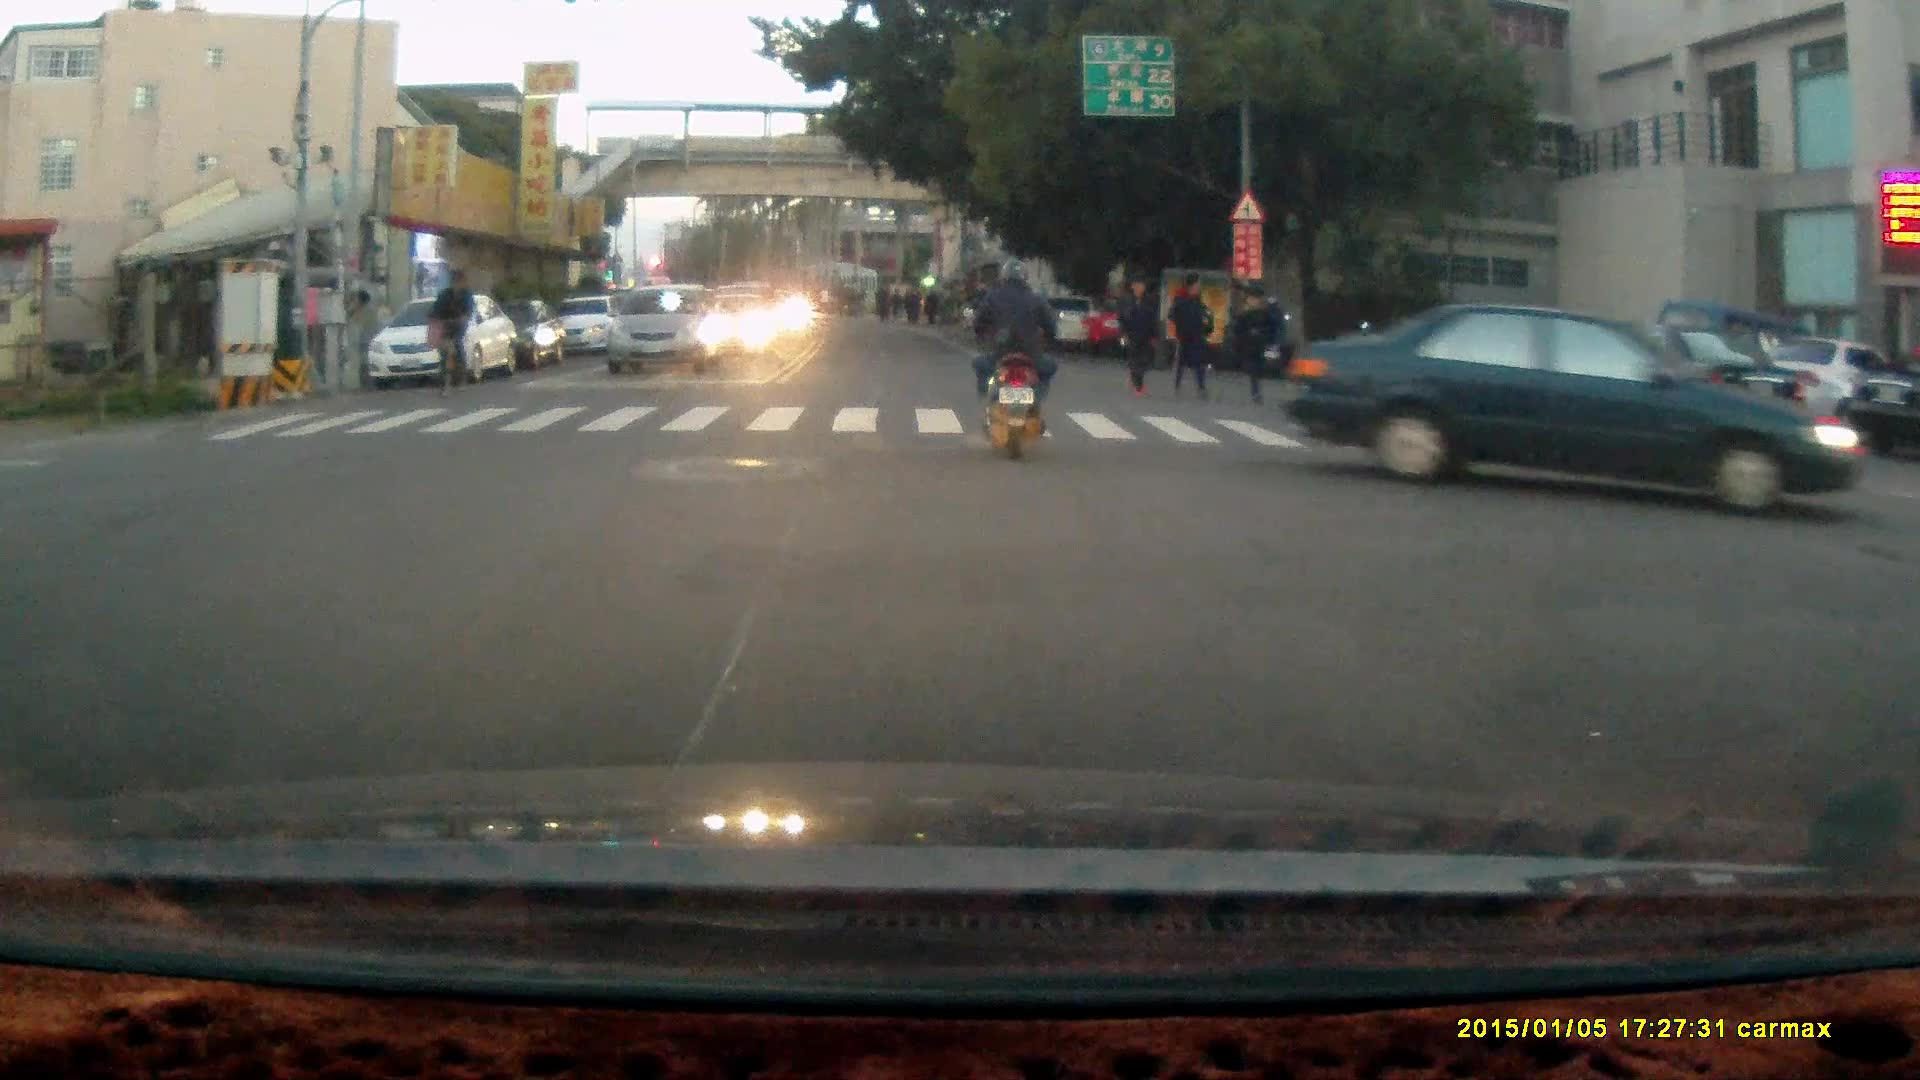pedestrian: (1115, 275, 1160, 400), (1171, 269, 1212, 403), (1233, 285, 1273, 403)
rider: (963, 255, 1058, 462), (425, 267, 472, 396), (1239, 292, 1297, 383)
vehicle: (1279, 297, 1875, 517), (1738, 337, 1910, 441), (364, 293, 526, 393), (599, 288, 731, 383), (1091, 297, 1209, 366), (1848, 360, 1920, 467)
